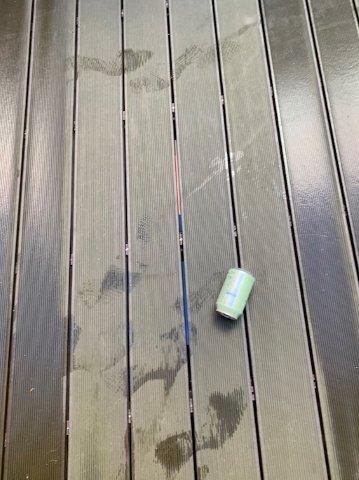kaleng: (216, 268, 255, 320)
